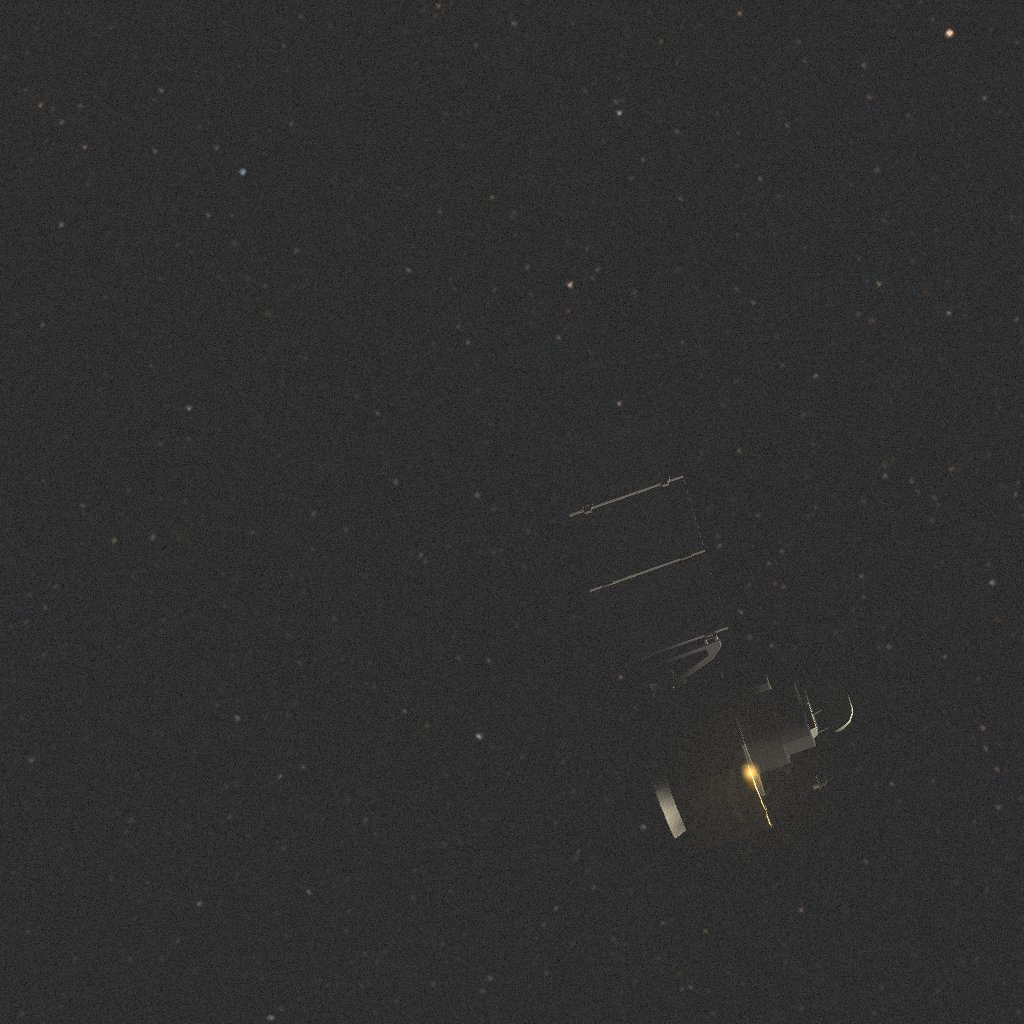earth_observation_sat_1: (550, 406, 853, 853)
